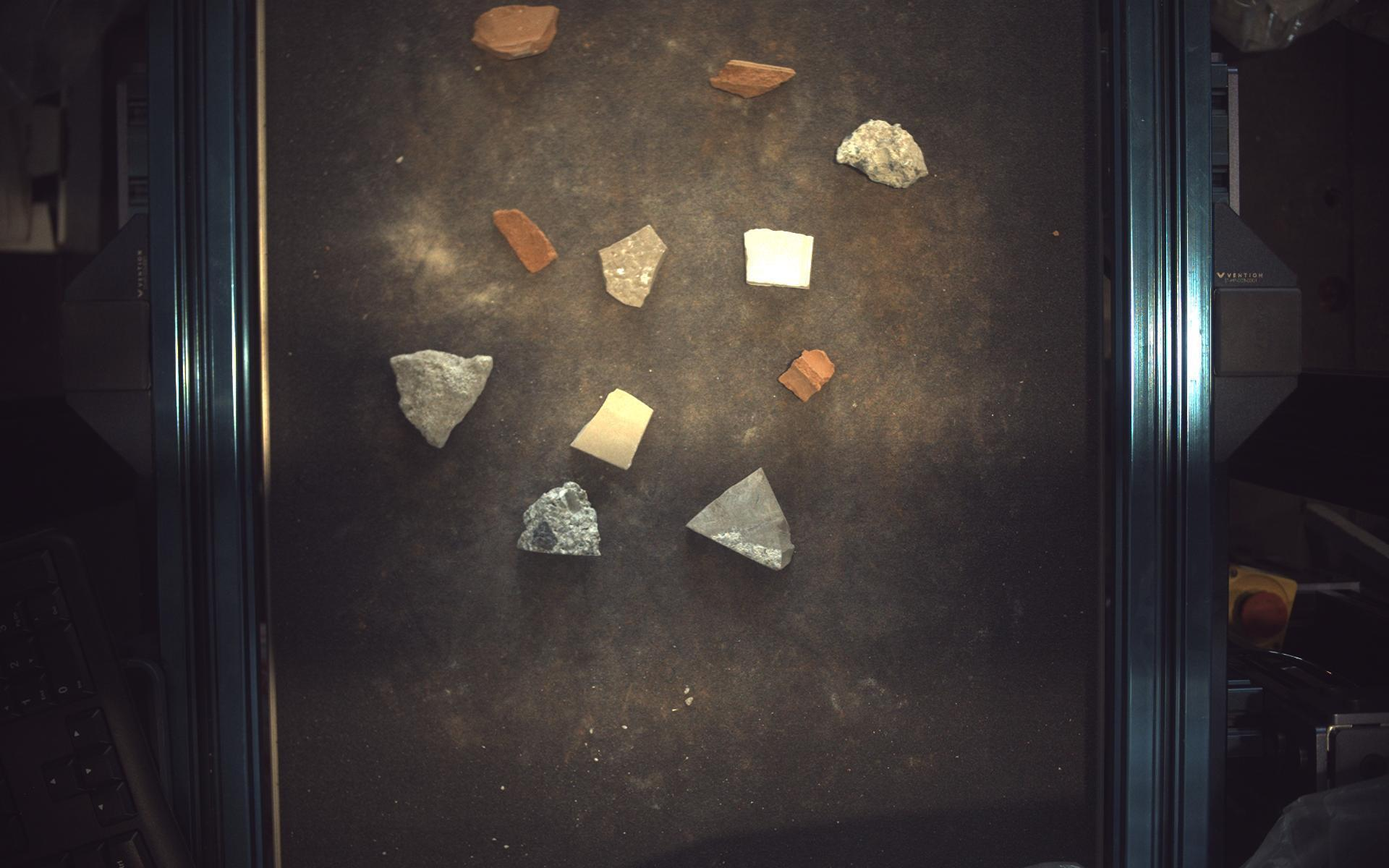brick: (472, 4, 560, 58), (495, 210, 558, 273), (711, 58, 797, 97), (780, 349, 836, 401)
concrete: (389, 349, 493, 448), (838, 119, 930, 187), (518, 482, 600, 557)
tile: (688, 469, 795, 571), (572, 388, 654, 469), (600, 224, 668, 307), (746, 228, 815, 289)
